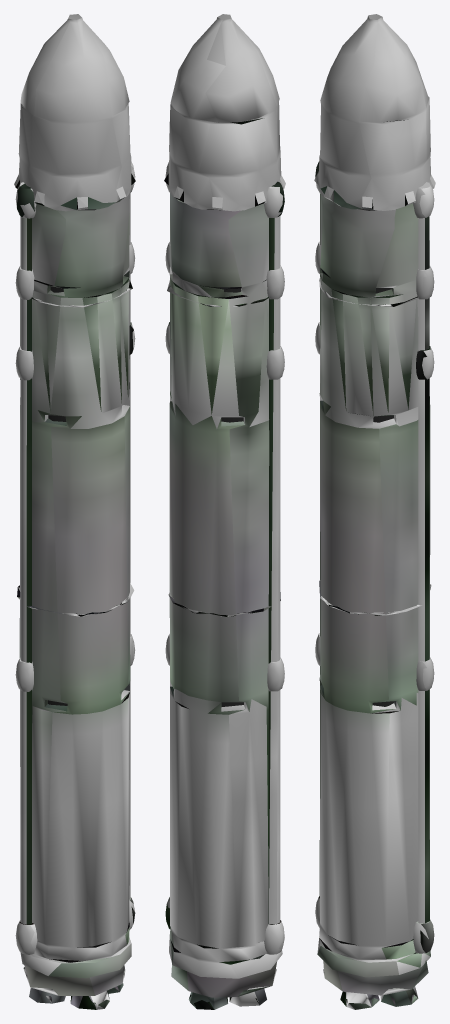
File: realistic-by.2e298fc5a522.nuclear.glb
3 views of the same model, side by side, from view 1: azimuth 30°, elevation 25°; view 2: azimuth 150°, elevation 25°; view 3: azimuth 330°, elevation 25° (orthographic).
Parts seen in each view (by area): view 1: nuclear; view 2: nuclear; view 3: nuclear.
Part boxes in pixels (left/top/right/bottom): nuclear: left=14, top=14, right=135, bottom=1009; nuclear: left=164, top=14, right=285, bottom=1009; nuclear: left=314, top=14, right=435, bottom=1009.
Bounding box in the file's own units: 4.25 × 34 × 3.67.
Materials: 2 (2 with a texture image).
